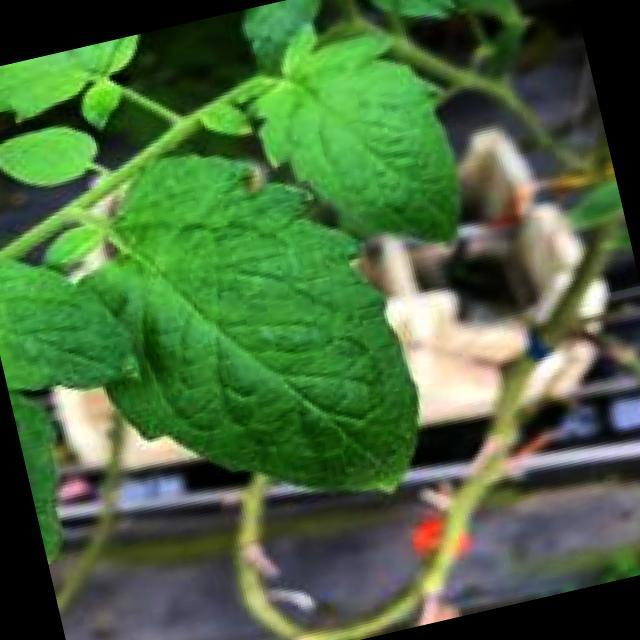Tomato healthy leaf: (39, 155, 420, 494), (214, 33, 457, 243), (0, 266, 126, 396), (0, 126, 102, 193)
